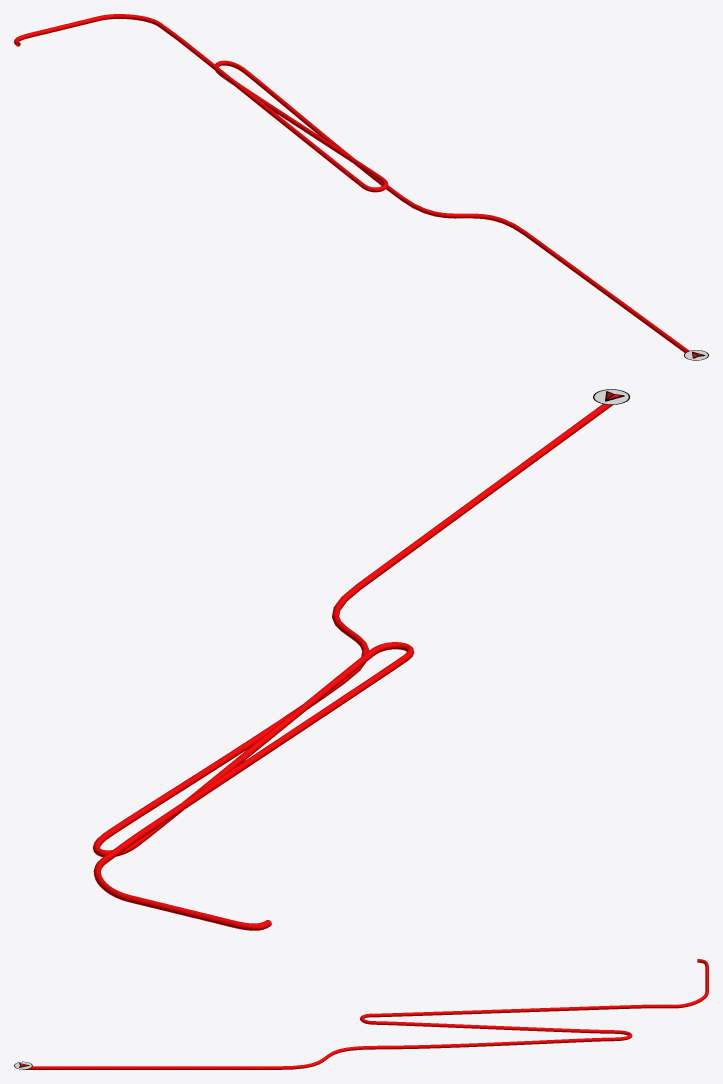
Rendered from route_56cb0d56-6cd8-4140-8b19-e281c7ddb70a_en_single.glb.
3 renders of one model, top to bottom at view 1: azimuth 30°, elevation 25°; view 2: azimuth 150°, elevation 25°; view 3: azimuth 270°, elevation 25°, orthographic. The views are drawn at different scales.
Parts seen in each view (by area): view 1: KVB-Bereitschaftspraxis.001; view 2: KVB-Bereitschaftspraxis.001; view 3: KVB-Bereitschaftspraxis.001.
Boxes of the visible parts, left/top/right/bottom form: KVB-Bereitschaftspraxis.001: left=14, top=14, right=696, bottom=360; KVB-Bereitschaftspraxis.001: left=93, top=404, right=612, bottom=930; KVB-Bereitschaftspraxis.001: left=23, top=959, right=708, bottom=1069.
Size of the model in its own units: 4.43 by 0.7201 by 15.21.
